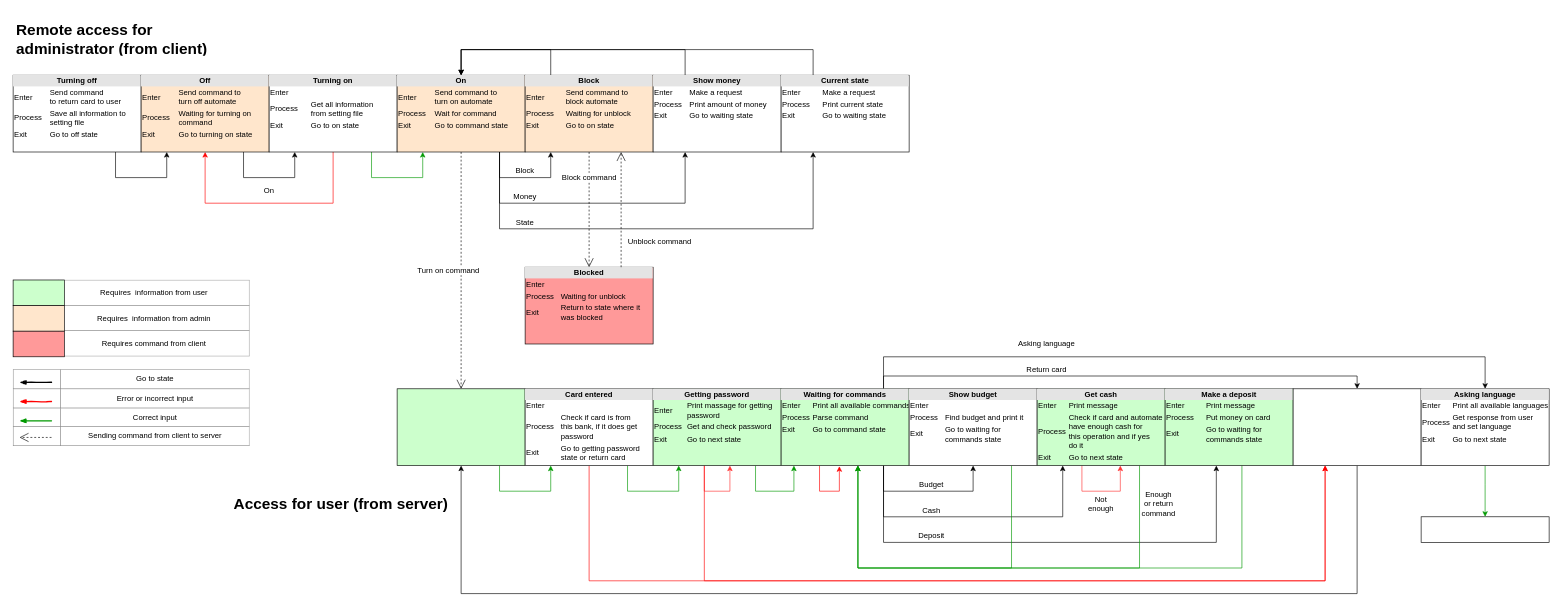
This 1560x610 diagram has some shape labels left out. Each missing label, with the centre of its shape:
"Return card Enter Process Return card Exit Go to waiting for commands state" belongs at (x=1356, y=427).
"State from what it was requierd" belongs at (x=1484, y=529).
"Waiting for card Enter Process Waiting for card Exit Go to next state" belongs at (x=460, y=427).
